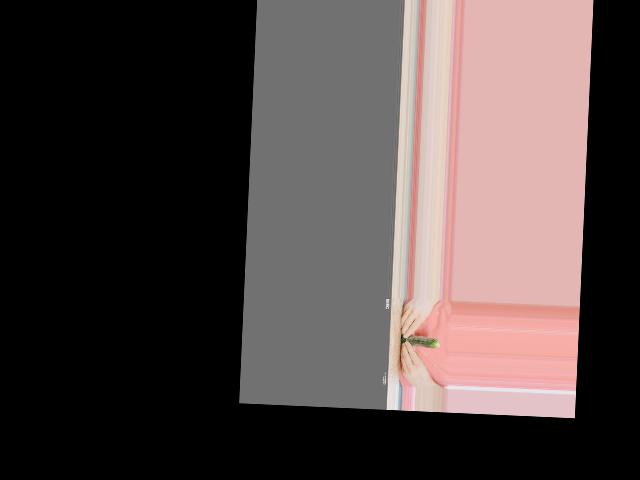cucumber: (400, 335, 439, 349)
